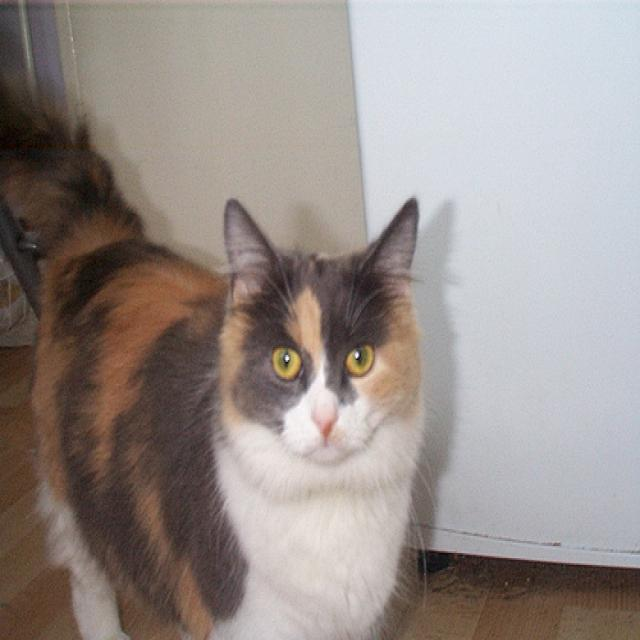left eye: (343, 340, 375, 377)
